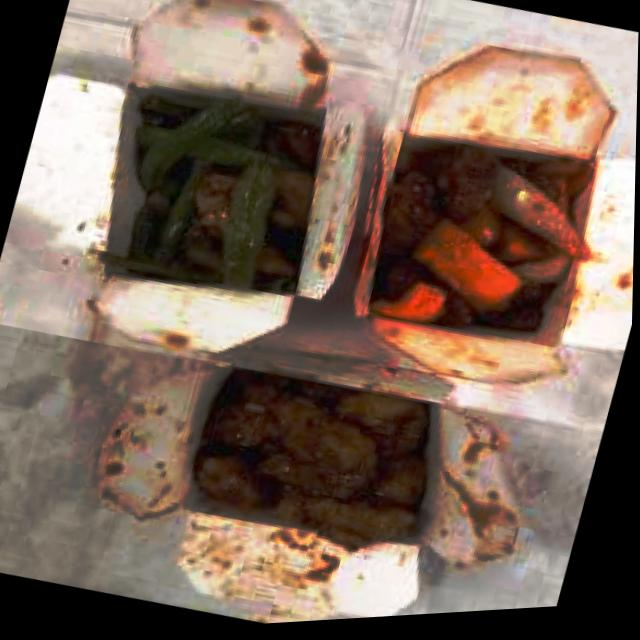Beijing Beef: (358, 112, 611, 362)
Kung Pao Chicken: (184, 347, 449, 562)
String Bean Chicken Breast: (93, 71, 337, 317)
